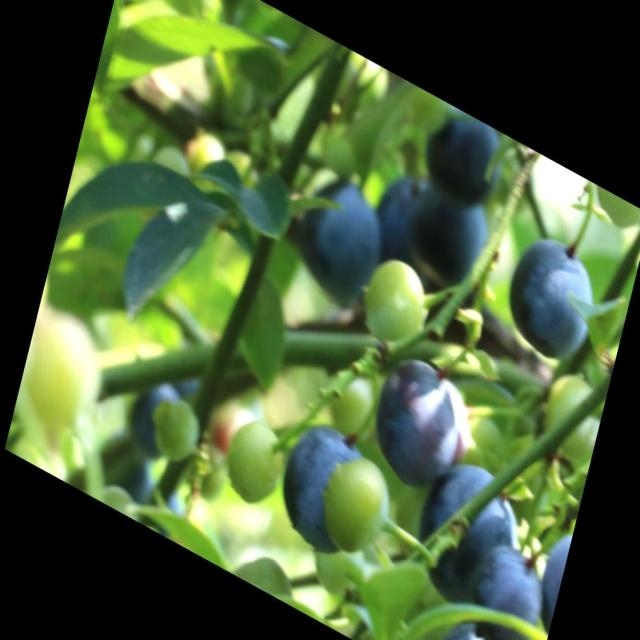blueberry: (410, 454, 515, 616), (366, 347, 469, 502), (271, 409, 370, 565), (293, 162, 394, 312), (501, 225, 602, 373), (400, 173, 494, 302), (420, 100, 504, 212), (462, 534, 546, 639), (370, 163, 436, 275), (119, 364, 183, 463), (423, 611, 520, 639)
blueberry-unripe: (313, 440, 397, 569), (218, 402, 289, 516), (359, 246, 433, 354), (145, 384, 206, 468)
